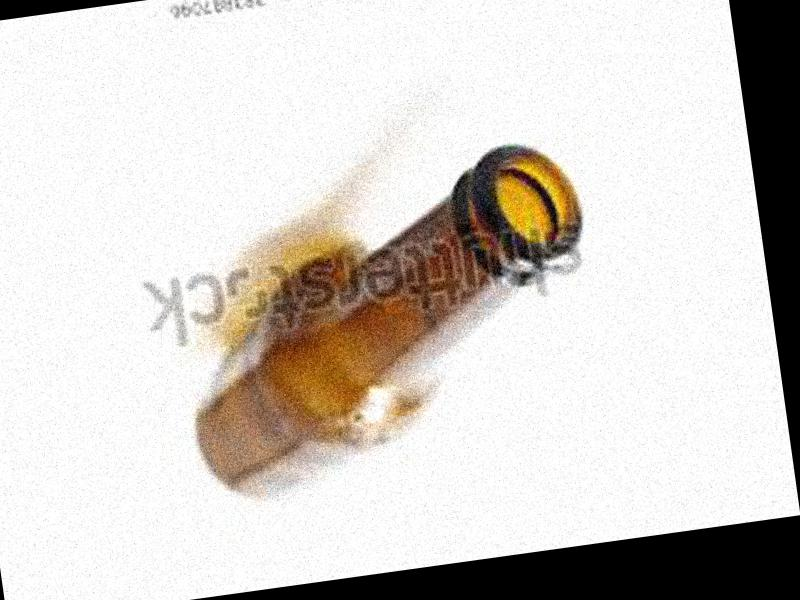Beer: (161, 133, 616, 507)
